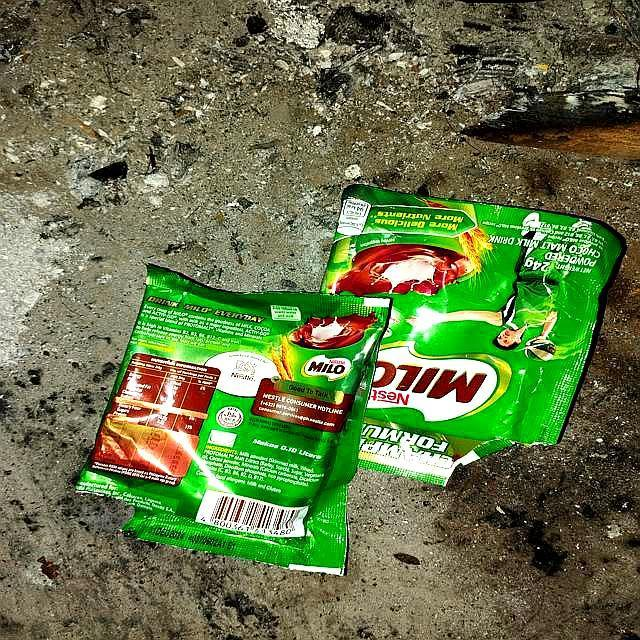Non-biodegradable: (77, 265, 395, 579), (327, 183, 629, 495)
